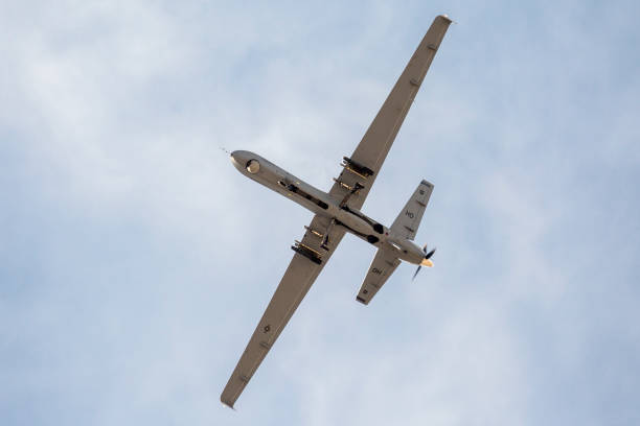military drone: (219, 13, 452, 411)
